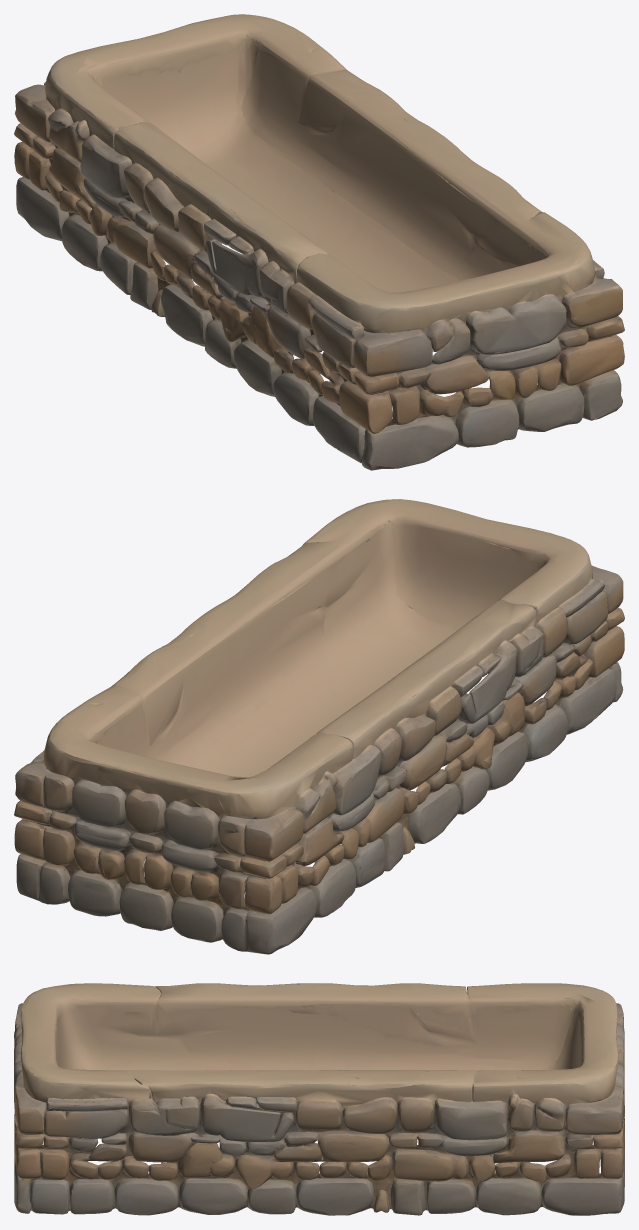
Rendered from Stable_Manger_1opt.glb.
3 renders of one model, top to bottom at view 1: azimuth 30°, elevation 25°; view 2: azimuth 150°, elevation 25°; view 3: azimuth 270°, elevation 25°, orthographic. The views are drawn at different scales.
Parts seen in each view (by area): view 1: material; view 2: material; view 3: material.
Boxes of the visible parts, bbox=[...] form: material: bbox=[14, 14, 624, 470]; material: bbox=[14, 499, 624, 954]; material: bbox=[14, 983, 624, 1215].
Bounding box in the file's own units: 0.4675 × 0.2658 × 1.1.
1 material, 1 textured.
